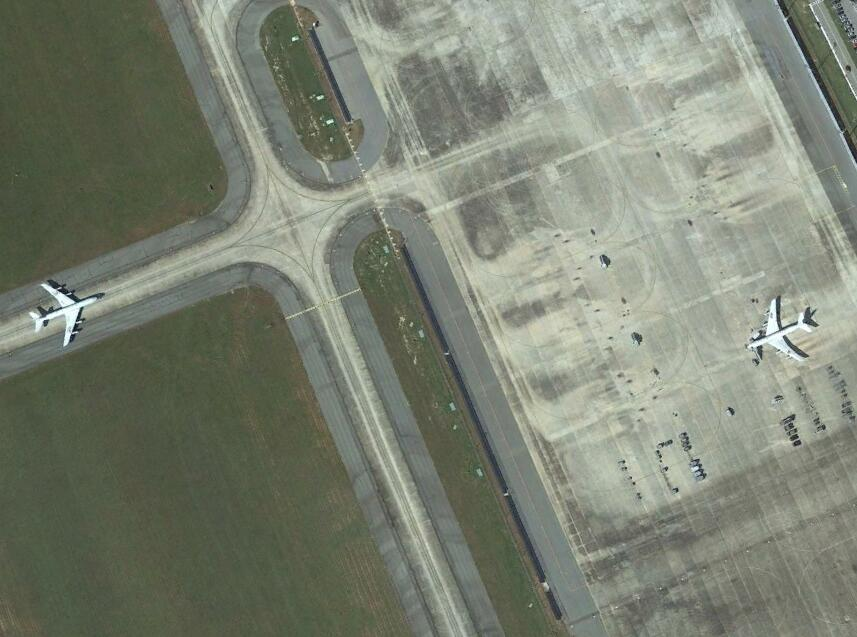A11: (30, 281, 101, 348), (751, 296, 814, 363)
